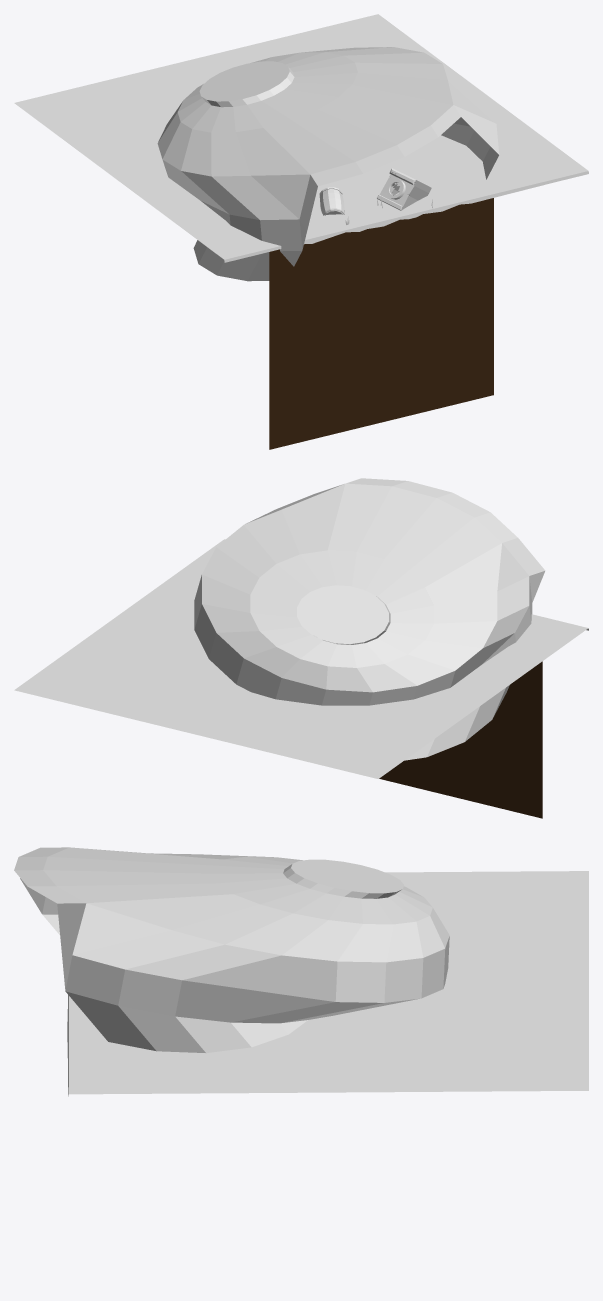
The model's file is Blocking_3D_Layout_V6.fbx.
3 views of the same model, one above another, from view 1: azimuth 30°, elevation 25°; view 2: azimuth 150°, elevation 25°; view 3: azimuth 270°, elevation 25° (orthographic). The views are drawn at different scales.
Parts seen in each view (by area): view 1: DIRT, OUTDOOR_FLIP, FLOOR, WASH_MACHINE, CAN; view 2: OUTDOOR_FLIP, FLOOR, DIRT; view 3: OUTDOOR_FLIP, FLOOR.
Boxes of the visible parts, left/top/right/bottom form: DIRT: left=269, top=198, right=493, bottom=449; OUTDOOR_FLIP: left=157, top=47, right=499, bottom=281; FLOOR: left=14, top=14, right=588, bottom=262; WASH_MACHINE: left=377, top=168, right=431, bottom=210; CAN: left=319, top=187, right=344, bottom=215; OUTDOOR_FLIP: left=194, top=478, right=545, bottom=760; FLOOR: left=14, top=539, right=588, bottom=778; DIRT: left=379, top=661, right=542, bottom=818; OUTDOOR_FLIP: left=14, top=847, right=449, bottom=1052; FLOOR: left=67, top=871, right=588, bottom=1096.
Size of the model in its own units: 1298 by 999 by 1435.
